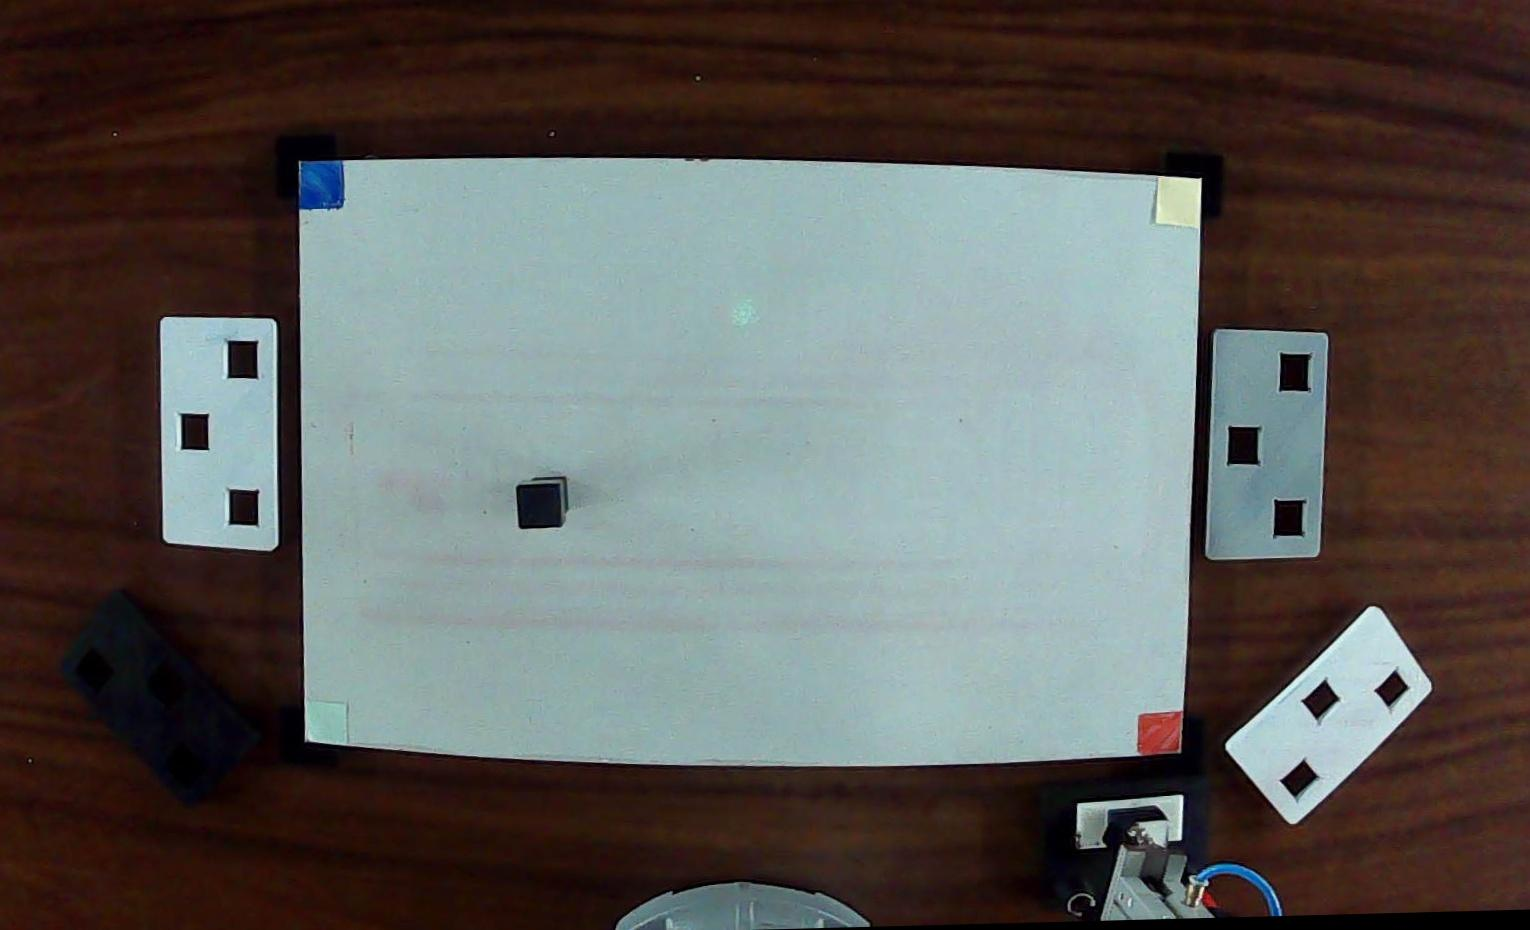pecaPreta: (514, 476, 568, 534)
